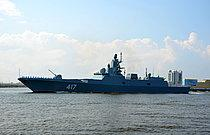MIL_Ship: (17, 52, 192, 95)
